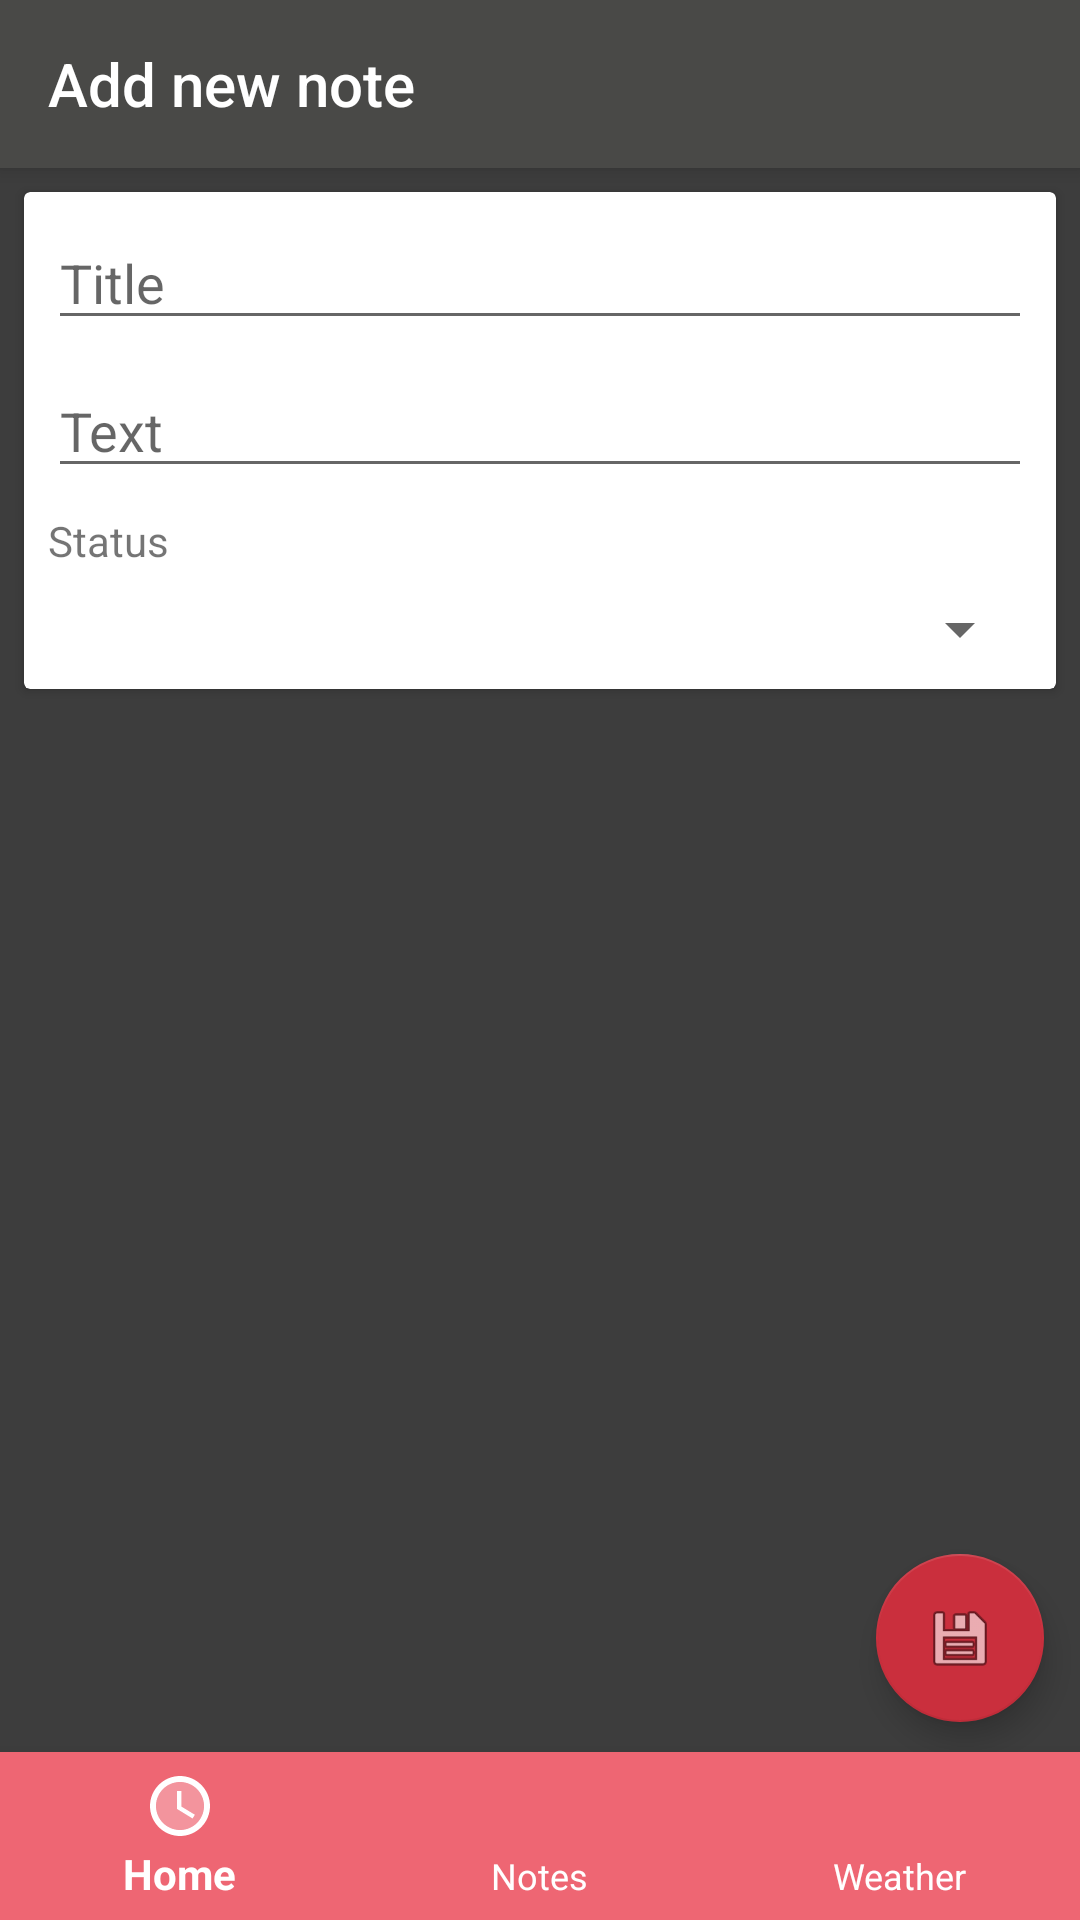

Where icons sit on this 1080 × 1920 app screen, as [left=x1, top=y1, right=x2, bottom=y2]:
save: [left=876, top=1554, right=1044, bottom=1722]
